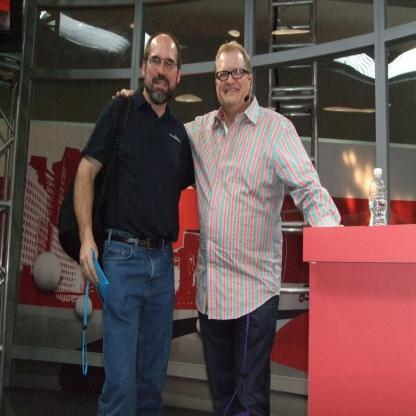Ball: (34, 253, 62, 293), (76, 294, 94, 320)
